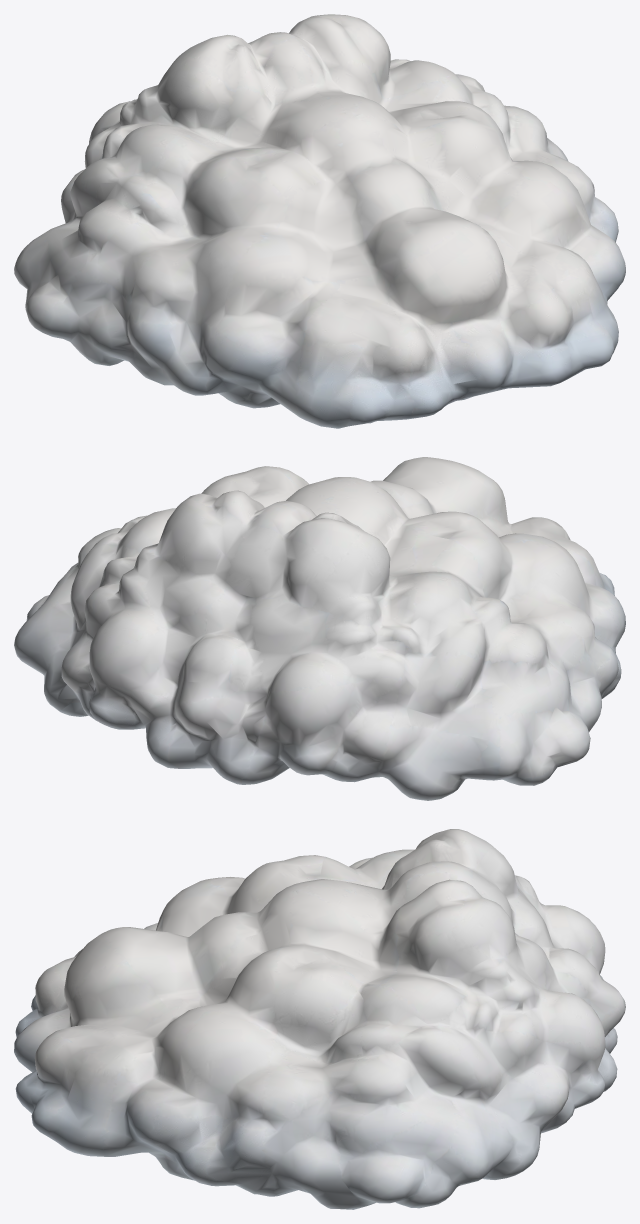
The model's file is cloud-pastel-drift.glb.
3 renders of one model, top to bottom at view 1: azimuth 30°, elevation 25°; view 2: azimuth 150°, elevation 25°; view 3: azimuth 270°, elevation 25°, orthographic.
Bounding box in the file's own units: 1.9 × 0.8419 × 1.82.
Materials: 1 (1 with a texture image).
